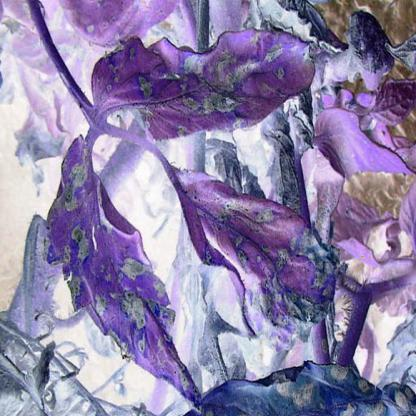Tomato leaf mosaic virus: (42, 129, 205, 412), (173, 166, 332, 336), (88, 32, 322, 140)
